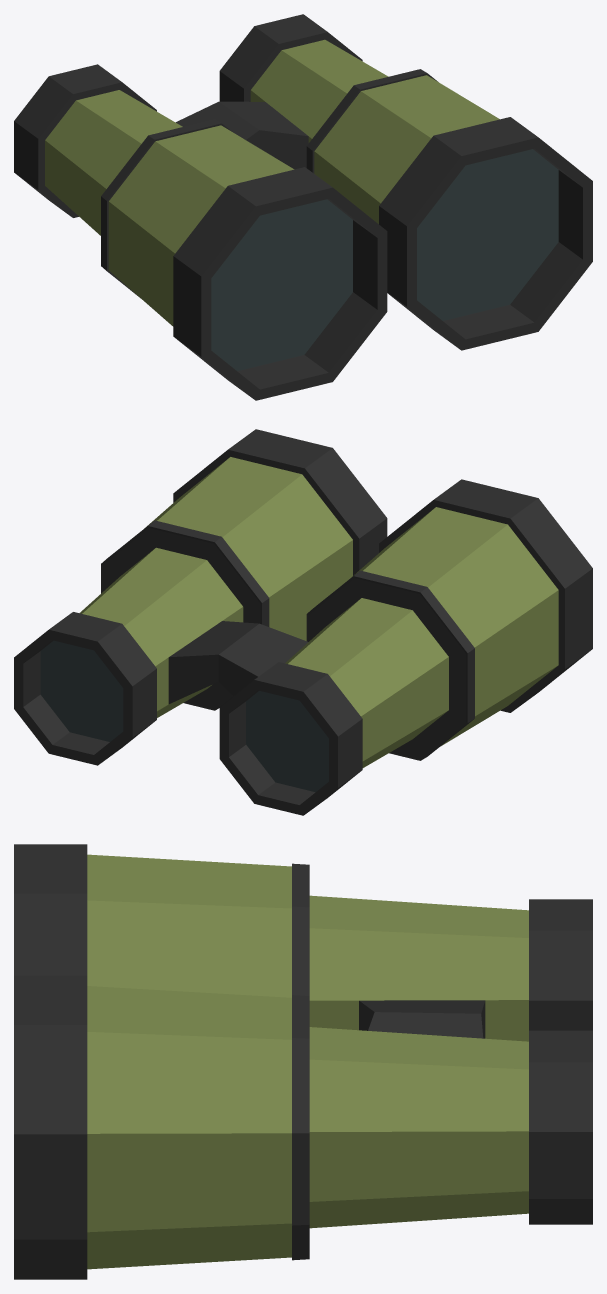
File: Binocular.fbx
3 renders of one model, top to bottom at view 1: azimuth 30°, elevation 25°; view 2: azimuth 150°, elevation 25°; view 3: azimuth 270°, elevation 25°, orthographic. The views are drawn at different scales.
Parts seen in each view (by area): view 1: Binoculars; view 2: Binoculars; view 3: Binoculars.
Boxes of the visible parts, x1,y1,x2,y2 form: Binoculars: (14, 14, 592, 400); Binoculars: (14, 429, 592, 815); Binoculars: (14, 844, 592, 1279).
Bounding box in the file's own units: 74.55 × 35.4 × 72.95.
